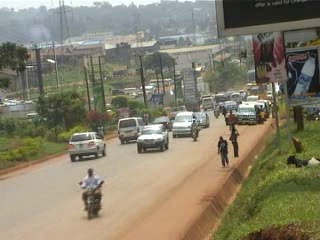Car: (66, 129, 108, 163), (134, 121, 172, 153), (172, 109, 198, 139), (153, 114, 173, 133), (193, 110, 210, 128)
Motorcycle: (77, 165, 105, 218), (187, 117, 201, 142), (212, 102, 219, 119)
